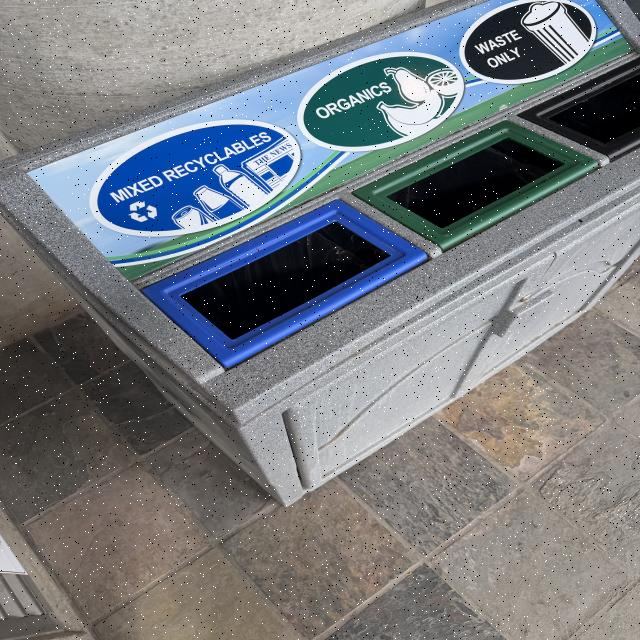Dustbin: (1, 2, 640, 506)
